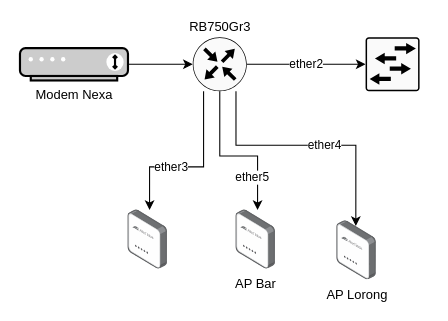
Some shapes in this 448 by 321 pixel diagram are drawn without their labels. The box of each missing label's shape, as (x1, y1, x2, y2) in pixels:
AP Office: (127, 210, 167, 268)
Switch Ruijie 16 Port: (364, 36, 420, 91)
